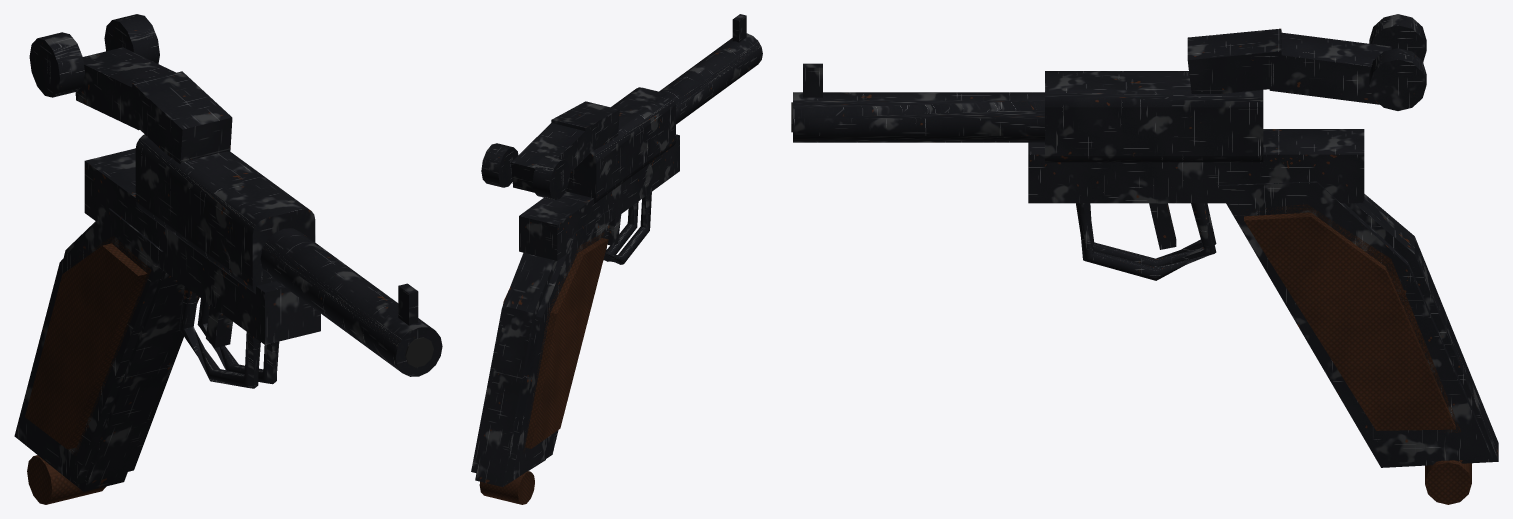
The model's file is luger.glb.
3 renders of one model, left to right at view 1: azimuth 30°, elevation 25°; view 2: azimuth 150°, elevation 25°; view 3: azimuth 270°, elevation 25°, orthographic. The views are drawn at different scales.
Visible parts, largest first — view 1: Luger_P08; view 2: Luger_P08; view 3: Luger_P08.
Part boxes in pixels (bbox=[...]): Luger_P08: bbox=[14, 14, 442, 504]; Luger_P08: bbox=[471, 14, 762, 504]; Luger_P08: bbox=[791, 14, 1498, 504].
Bounding box in the file's own units: 0.032 × 0.1495 × 0.2105.
3 materials, 2 textured.
